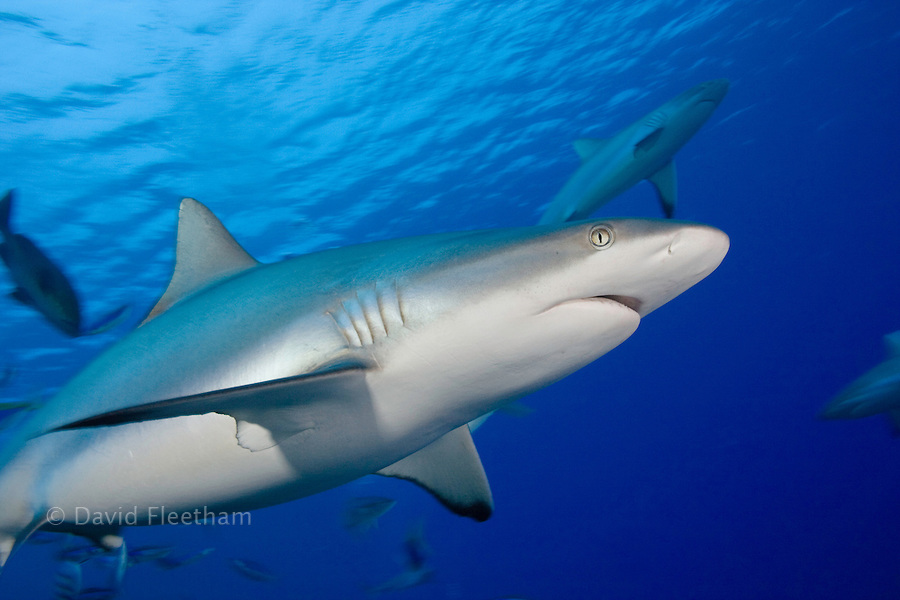Carcharhinus_amblyrhynchos: (1, 174, 750, 581)
